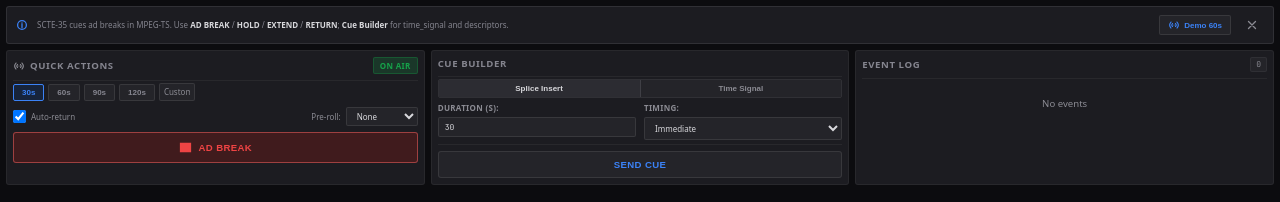
Test: SCTE35Panel › dismisses tip banner when dismiss button clicked
This screenshot has width=1280, height=202.
Click the button with class "tip-banner__close": (1252, 25) [1239, 12, 1265, 38]
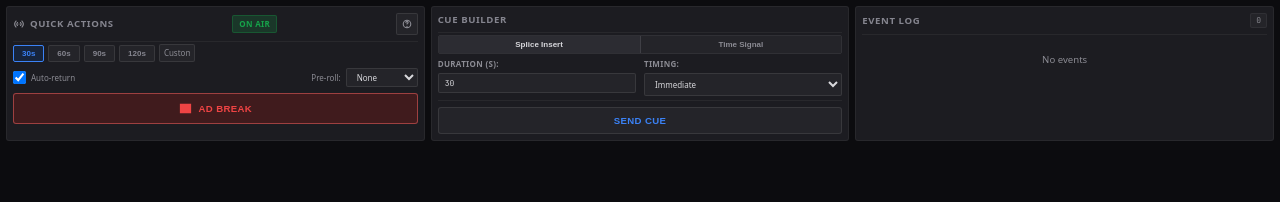
expect the message with class "tip-banner" is gone: met
